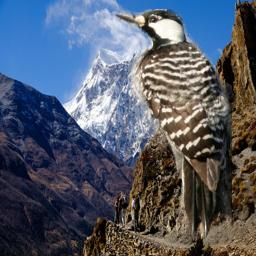Woodpecker: (114, 9, 232, 244)
